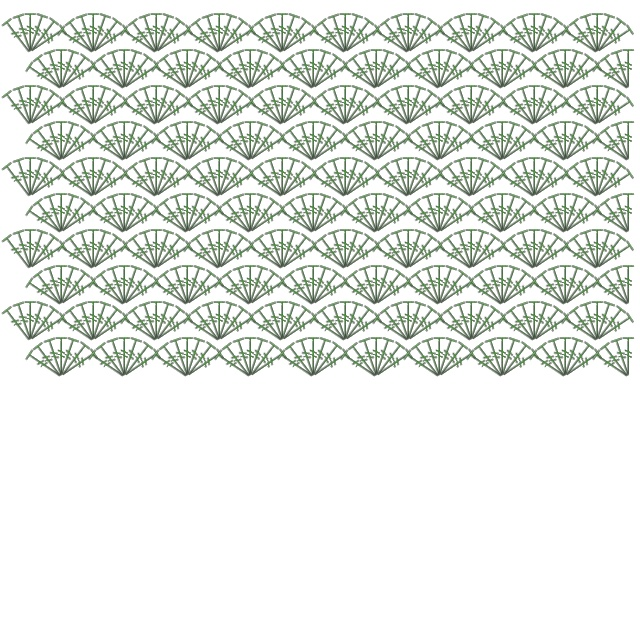fan: (1, 16, 37, 57), (25, 16, 61, 57), (64, 16, 100, 57), (88, 16, 124, 57), (127, 16, 163, 57), (151, 16, 187, 57), (190, 16, 226, 57), (214, 16, 250, 57), (253, 16, 289, 57), (277, 16, 313, 57), (316, 16, 352, 57), (340, 16, 376, 57), (379, 16, 415, 57), (403, 16, 439, 57), (442, 16, 478, 57), (466, 16, 502, 57), (505, 16, 541, 57), (529, 16, 565, 57), (568, 16, 604, 57), (592, 16, 628, 57), (32, 52, 68, 93), (56, 52, 92, 93), (95, 52, 131, 93), (119, 52, 155, 93), (158, 52, 194, 93), (182, 52, 218, 93), (221, 52, 257, 93), (245, 52, 281, 93), (284, 52, 320, 93), (308, 52, 344, 93), (347, 52, 383, 93), (371, 52, 407, 93), (410, 52, 446, 93), (434, 52, 470, 93), (473, 52, 509, 93), (497, 52, 533, 93), (536, 52, 572, 93), (560, 52, 596, 93), (599, 52, 635, 93), (1, 88, 37, 129), (25, 88, 61, 129), (64, 88, 100, 129), (88, 88, 124, 129), (127, 88, 163, 129), (151, 88, 187, 129), (190, 88, 226, 129), (214, 88, 250, 129), (253, 88, 289, 129), (277, 88, 313, 129), (316, 88, 352, 129), (340, 88, 376, 129), (379, 88, 415, 129), (403, 88, 439, 129), (442, 88, 478, 129), (466, 88, 502, 129), (505, 88, 541, 129), (529, 88, 565, 129), (568, 88, 604, 129), (592, 88, 628, 129), (32, 124, 68, 165), (56, 124, 92, 165), (95, 124, 131, 165), (119, 124, 155, 165), (158, 124, 194, 165), (182, 124, 218, 165), (221, 124, 257, 165), (245, 124, 281, 165), (284, 124, 320, 165), (308, 124, 344, 165), (347, 124, 383, 165), (371, 124, 407, 165), (410, 124, 446, 165), (434, 124, 470, 165), (473, 124, 509, 165), (497, 124, 533, 165), (536, 124, 572, 165), (560, 124, 596, 165), (599, 124, 635, 165), (1, 160, 37, 201), (25, 160, 61, 201), (64, 160, 100, 201), (88, 160, 124, 201), (127, 160, 163, 201), (151, 160, 187, 201), (190, 160, 226, 201), (214, 160, 250, 201), (253, 160, 289, 201), (277, 160, 313, 201), (316, 160, 352, 201), (340, 160, 376, 201), (379, 160, 415, 201), (403, 160, 439, 201), (442, 160, 478, 201), (466, 160, 502, 201), (505, 160, 541, 201), (529, 160, 565, 201), (568, 160, 604, 201), (592, 160, 628, 201), (32, 196, 68, 237), (56, 196, 92, 237), (95, 196, 131, 237), (119, 196, 155, 237), (158, 196, 194, 237), (182, 196, 218, 237), (221, 196, 257, 237), (245, 196, 281, 237), (284, 196, 320, 237), (308, 196, 344, 237), (347, 196, 383, 237), (371, 196, 407, 237), (410, 196, 446, 237), (434, 196, 470, 237), (473, 196, 509, 237), (497, 196, 533, 237), (536, 196, 572, 237), (560, 196, 596, 237), (599, 196, 635, 237), (1, 232, 37, 273), (25, 232, 61, 273), (64, 232, 100, 273), (88, 232, 124, 273), (127, 232, 163, 273), (151, 232, 187, 273), (190, 232, 226, 273), (214, 232, 250, 273), (253, 232, 289, 273), (277, 232, 313, 273), (316, 232, 352, 273), (340, 232, 376, 273), (379, 232, 415, 273), (403, 232, 439, 273), (442, 232, 478, 273), (466, 232, 502, 273), (505, 232, 541, 273), (529, 232, 565, 273), (568, 232, 604, 273), (592, 232, 628, 273), (32, 268, 68, 309), (56, 268, 92, 309), (95, 268, 131, 309), (119, 268, 155, 309), (158, 268, 194, 309), (182, 268, 218, 309), (221, 268, 257, 309), (245, 268, 281, 309), (284, 268, 320, 309), (308, 268, 344, 309), (347, 268, 383, 309), (371, 268, 407, 309), (410, 268, 446, 309), (434, 268, 470, 309), (473, 268, 509, 309), (497, 268, 533, 309), (536, 268, 572, 309), (560, 268, 596, 309), (599, 268, 635, 309), (1, 304, 37, 345), (25, 304, 61, 345), (64, 304, 100, 345), (88, 304, 124, 345), (127, 304, 163, 345), (151, 304, 187, 345), (190, 304, 226, 345), (214, 304, 250, 345), (253, 304, 289, 345), (277, 304, 313, 345), (316, 304, 352, 345), (340, 304, 376, 345), (379, 304, 415, 345), (403, 304, 439, 345), (442, 304, 478, 345), (466, 304, 502, 345), (505, 304, 541, 345), (529, 304, 565, 345), (568, 304, 604, 345), (592, 304, 628, 345), (32, 340, 68, 381), (56, 340, 92, 381), (95, 340, 131, 381), (119, 340, 155, 381), (158, 340, 194, 381), (182, 340, 218, 381), (221, 340, 257, 381), (245, 340, 281, 381), (284, 340, 320, 381), (308, 340, 344, 381), (347, 340, 383, 381), (371, 340, 407, 381), (410, 340, 446, 381), (434, 340, 470, 381), (473, 340, 509, 381), (497, 340, 533, 381), (536, 340, 572, 381), (560, 340, 596, 381), (599, 340, 635, 381), (27, 23, 68, 58), (57, 23, 98, 58), (90, 23, 131, 58), (120, 23, 161, 58), (153, 23, 194, 58), (183, 23, 224, 58), (216, 23, 257, 58), (246, 23, 287, 58), (279, 23, 320, 58), (309, 23, 350, 58), (342, 23, 383, 58), (372, 23, 413, 58), (405, 23, 446, 58), (435, 23, 476, 58), (468, 23, 509, 58), (498, 23, 539, 58), (531, 23, 572, 58), (561, 23, 602, 58), (594, 23, 635, 58), (25, 59, 66, 94), (58, 59, 99, 94), (88, 59, 129, 94), (121, 59, 162, 94), (151, 59, 192, 94), (184, 59, 225, 94), (214, 59, 255, 94), (247, 59, 288, 94), (277, 59, 318, 94), (310, 59, 351, 94), (340, 59, 381, 94), (373, 59, 414, 94), (403, 59, 444, 94), (436, 59, 477, 94), (466, 59, 507, 94), (499, 59, 540, 94), (529, 59, 570, 94), (562, 59, 603, 94), (592, 59, 633, 94), (27, 95, 68, 130), (57, 95, 98, 130), (90, 95, 131, 130), (120, 95, 161, 130), (153, 95, 194, 130), (183, 95, 224, 130), (216, 95, 257, 130), (246, 95, 287, 130), (279, 95, 320, 130), (309, 95, 350, 130), (342, 95, 383, 130), (372, 95, 413, 130), (405, 95, 446, 130), (435, 95, 476, 130), (468, 95, 509, 130), (498, 95, 539, 130), (531, 95, 572, 130), (561, 95, 602, 130), (594, 95, 635, 130), (25, 131, 66, 166), (58, 131, 99, 166), (88, 131, 129, 166), (121, 131, 162, 166), (151, 131, 192, 166), (184, 131, 225, 166), (214, 131, 255, 166), (247, 131, 288, 166), (277, 131, 318, 166), (310, 131, 351, 166), (340, 131, 381, 166), (373, 131, 414, 166), (403, 131, 444, 166), (436, 131, 477, 166), (466, 131, 507, 166), (499, 131, 540, 166), (529, 131, 570, 166), (562, 131, 603, 166), (592, 131, 633, 166), (27, 167, 68, 202), (57, 167, 98, 202), (90, 167, 131, 202), (120, 167, 161, 202), (153, 167, 194, 202), (183, 167, 224, 202), (216, 167, 257, 202), (246, 167, 287, 202), (279, 167, 320, 202), (309, 167, 350, 202), (342, 167, 383, 202), (372, 167, 413, 202), (405, 167, 446, 202), (435, 167, 476, 202), (468, 167, 509, 202), (498, 167, 539, 202), (531, 167, 572, 202), (561, 167, 602, 202), (594, 167, 635, 202), (25, 203, 66, 238), (58, 203, 99, 238), (88, 203, 129, 238), (121, 203, 162, 238), (151, 203, 192, 238), (184, 203, 225, 238), (214, 203, 255, 238), (247, 203, 288, 238), (277, 203, 318, 238), (310, 203, 351, 238), (340, 203, 381, 238), (373, 203, 414, 238), (403, 203, 444, 238), (436, 203, 477, 238), (466, 203, 507, 238), (499, 203, 540, 238), (529, 203, 570, 238), (562, 203, 603, 238), (592, 203, 633, 238), (27, 239, 68, 274), (57, 239, 98, 274), (90, 239, 131, 274), (120, 239, 161, 274), (153, 239, 194, 274), (183, 239, 224, 274), (216, 239, 257, 274), (246, 239, 287, 274), (279, 239, 320, 274), (309, 239, 350, 274), (342, 239, 383, 274), (372, 239, 413, 274), (405, 239, 446, 274), (435, 239, 476, 274), (468, 239, 509, 274), (498, 239, 539, 274), (531, 239, 572, 274), (561, 239, 602, 274), (594, 239, 635, 274), (25, 275, 66, 310), (58, 275, 99, 310), (88, 275, 129, 310), (121, 275, 162, 310), (151, 275, 192, 310), (184, 275, 225, 310), (214, 275, 255, 310), (247, 275, 288, 310), (277, 275, 318, 310), (310, 275, 351, 310), (340, 275, 381, 310), (373, 275, 414, 310), (403, 275, 444, 310), (436, 275, 477, 310), (466, 275, 507, 310), (499, 275, 540, 310), (529, 275, 570, 310), (562, 275, 603, 310), (592, 275, 633, 310), (27, 311, 68, 346), (57, 311, 98, 346), (90, 311, 131, 346), (120, 311, 161, 346), (153, 311, 194, 346), (183, 311, 224, 346), (216, 311, 257, 346), (246, 311, 287, 346), (279, 311, 320, 346), (309, 311, 350, 346), (342, 311, 383, 346), (372, 311, 413, 346), (405, 311, 446, 346), (435, 311, 476, 346), (468, 311, 509, 346), (498, 311, 539, 346), (531, 311, 572, 346), (561, 311, 602, 346), (594, 311, 635, 346), (25, 347, 66, 382), (58, 347, 99, 382), (88, 347, 129, 382), (121, 347, 162, 382), (151, 347, 192, 382), (184, 347, 225, 382), (214, 347, 255, 382), (247, 347, 288, 382), (277, 347, 318, 382), (310, 347, 351, 382), (340, 347, 381, 382), (373, 347, 414, 382), (403, 347, 444, 382), (436, 347, 477, 382), (466, 347, 507, 382), (499, 347, 540, 382), (529, 347, 570, 382), (562, 347, 603, 382), (592, 347, 633, 382), (11, 12, 38, 54), (24, 12, 51, 54), (74, 12, 101, 54), (87, 12, 114, 54), (137, 12, 164, 54), (150, 12, 177, 54), (200, 12, 227, 54), (213, 12, 240, 54), (263, 12, 290, 54), (276, 12, 303, 54), (326, 12, 353, 54), (339, 12, 366, 54), (389, 12, 416, 54), (402, 12, 429, 54), (452, 12, 479, 54), (465, 12, 492, 54), (515, 12, 542, 54), (528, 12, 555, 54), (578, 12, 605, 54), (591, 12, 618, 54), (42, 48, 69, 90), (55, 48, 82, 90), (105, 48, 132, 90), (118, 48, 145, 90), (168, 48, 195, 90), (181, 48, 208, 90), (231, 48, 258, 90), (244, 48, 271, 90), (294, 48, 321, 90), (307, 48, 334, 90), (357, 48, 384, 90), (370, 48, 397, 90), (420, 48, 447, 90), (433, 48, 460, 90), (483, 48, 510, 90), (496, 48, 523, 90), (546, 48, 573, 90), (559, 48, 586, 90), (609, 48, 636, 90), (11, 84, 38, 126), (24, 84, 51, 126), (74, 84, 101, 126), (87, 84, 114, 126), (137, 84, 164, 126), (150, 84, 177, 126), (200, 84, 227, 126), (213, 84, 240, 126), (263, 84, 290, 126), (276, 84, 303, 126), (326, 84, 353, 126), (339, 84, 366, 126), (389, 84, 416, 126), (402, 84, 429, 126), (452, 84, 479, 126), (465, 84, 492, 126), (515, 84, 542, 126), (528, 84, 555, 126), (578, 84, 605, 126), (591, 84, 618, 126), (42, 120, 69, 162), (55, 120, 82, 162), (105, 120, 132, 162), (118, 120, 145, 162), (168, 120, 195, 162), (181, 120, 208, 162), (231, 120, 258, 162), (244, 120, 271, 162), (294, 120, 321, 162), (307, 120, 334, 162), (357, 120, 384, 162), (370, 120, 397, 162), (420, 120, 447, 162), (433, 120, 460, 162), (483, 120, 510, 162), (496, 120, 523, 162), (546, 120, 573, 162), (559, 120, 586, 162), (609, 120, 636, 162), (11, 156, 38, 198), (24, 156, 51, 198), (74, 156, 101, 198), (87, 156, 114, 198), (137, 156, 164, 198), (150, 156, 177, 198), (200, 156, 227, 198), (213, 156, 240, 198), (263, 156, 290, 198), (276, 156, 303, 198), (326, 156, 353, 198), (339, 156, 366, 198), (389, 156, 416, 198), (402, 156, 429, 198), (452, 156, 479, 198), (465, 156, 492, 198), (515, 156, 542, 198), (528, 156, 555, 198), (578, 156, 605, 198), (591, 156, 618, 198), (42, 192, 69, 234), (55, 192, 82, 234), (105, 192, 132, 234), (118, 192, 145, 234), (168, 192, 195, 234), (181, 192, 208, 234), (231, 192, 258, 234), (244, 192, 271, 234), (294, 192, 321, 234), (307, 192, 334, 234), (357, 192, 384, 234), (370, 192, 397, 234), (420, 192, 447, 234), (433, 192, 460, 234), (483, 192, 510, 234), (496, 192, 523, 234), (546, 192, 573, 234), (559, 192, 586, 234), (609, 192, 636, 234), (11, 228, 38, 270), (24, 228, 51, 270), (74, 228, 101, 270), (87, 228, 114, 270), (137, 228, 164, 270), (150, 228, 177, 270), (200, 228, 227, 270), (213, 228, 240, 270), (263, 228, 290, 270), (276, 228, 303, 270), (326, 228, 353, 270), (339, 228, 366, 270), (389, 228, 416, 270), (402, 228, 429, 270), (452, 228, 479, 270), (465, 228, 492, 270), (515, 228, 542, 270), (528, 228, 555, 270), (578, 228, 605, 270), (591, 228, 618, 270), (42, 264, 69, 306), (55, 264, 82, 306), (105, 264, 132, 306), (118, 264, 145, 306), (168, 264, 195, 306), (181, 264, 208, 306), (231, 264, 258, 306), (244, 264, 271, 306), (294, 264, 321, 306), (307, 264, 334, 306), (357, 264, 384, 306), (370, 264, 397, 306), (420, 264, 447, 306), (433, 264, 460, 306), (483, 264, 510, 306), (496, 264, 523, 306), (546, 264, 573, 306), (559, 264, 586, 306), (609, 264, 636, 306), (11, 300, 38, 342), (24, 300, 51, 342), (74, 300, 101, 342), (87, 300, 114, 342), (137, 300, 164, 342), (150, 300, 177, 342), (200, 300, 227, 342), (213, 300, 240, 342), (263, 300, 290, 342), (276, 300, 303, 342), (326, 300, 353, 342), (339, 300, 366, 342), (389, 300, 416, 342), (402, 300, 429, 342), (452, 300, 479, 342), (465, 300, 492, 342), (515, 300, 542, 342), (528, 300, 555, 342), (578, 300, 605, 342), (591, 300, 618, 342), (42, 336, 69, 378), (55, 336, 82, 378), (105, 336, 132, 378), (118, 336, 145, 378), (168, 336, 195, 378), (181, 336, 208, 378), (231, 336, 258, 378), (244, 336, 271, 378), (294, 336, 321, 378), (307, 336, 334, 378), (357, 336, 384, 378), (370, 336, 397, 378), (420, 336, 447, 378), (433, 336, 460, 378), (483, 336, 510, 378), (496, 336, 523, 378), (546, 336, 573, 378), (559, 336, 586, 378), (609, 336, 636, 378), (86, 12, 102, 52), (212, 12, 228, 52), (338, 12, 354, 52), (464, 12, 480, 52), (590, 12, 606, 52), (54, 48, 70, 88), (180, 48, 196, 88), (306, 48, 322, 88), (432, 48, 448, 88), (558, 48, 574, 88), (86, 84, 102, 124), (212, 84, 228, 124), (338, 84, 354, 124), (464, 84, 480, 124), (590, 84, 606, 124), (54, 120, 70, 160), (180, 120, 196, 160), (306, 120, 322, 160), (432, 120, 448, 160), (558, 120, 574, 160), (86, 156, 102, 196), (212, 156, 228, 196), (338, 156, 354, 196), (464, 156, 480, 196), (590, 156, 606, 196), (54, 192, 70, 232), (180, 192, 196, 232), (306, 192, 322, 232), (432, 192, 448, 232), (558, 192, 574, 232), (86, 228, 102, 268), (212, 228, 228, 268), (338, 228, 354, 268), (464, 228, 480, 268), (590, 228, 606, 268), (54, 264, 70, 304), (180, 264, 196, 304), (306, 264, 322, 304), (432, 264, 448, 304), (558, 264, 574, 304), (86, 300, 102, 340), (212, 300, 228, 340), (338, 300, 354, 340), (464, 300, 480, 340), (590, 300, 606, 340), (54, 336, 70, 376), (180, 336, 196, 376), (306, 336, 322, 376), (432, 336, 448, 376), (558, 336, 574, 376), (24, 12, 38, 52), (150, 12, 164, 52), (276, 12, 290, 52), (402, 12, 416, 52), (528, 12, 542, 52), (118, 48, 132, 88), (244, 48, 258, 88), (370, 48, 384, 88), (496, 48, 510, 88), (622, 48, 636, 88), (24, 84, 38, 124), (150, 84, 164, 124), (276, 84, 290, 124), (402, 84, 416, 124), (528, 84, 542, 124), (118, 120, 132, 160), (244, 120, 258, 160), (370, 120, 384, 160), (496, 120, 510, 160), (622, 120, 636, 160), (24, 156, 38, 196), (150, 156, 164, 196), (276, 156, 290, 196), (402, 156, 416, 196), (528, 156, 542, 196), (118, 192, 132, 232), (244, 192, 258, 232), (370, 192, 384, 232), (496, 192, 510, 232), (622, 192, 636, 232), (24, 228, 38, 268), (150, 228, 164, 268), (276, 228, 290, 268), (402, 228, 416, 268), (528, 228, 542, 268), (118, 264, 132, 304), (244, 264, 258, 304), (370, 264, 384, 304), (496, 264, 510, 304), (622, 264, 636, 304), (24, 300, 38, 340), (150, 300, 164, 340), (276, 300, 290, 340), (402, 300, 416, 340), (528, 300, 542, 340), (118, 336, 132, 376), (244, 336, 258, 376), (370, 336, 384, 376), (496, 336, 510, 376), (622, 336, 636, 376)
